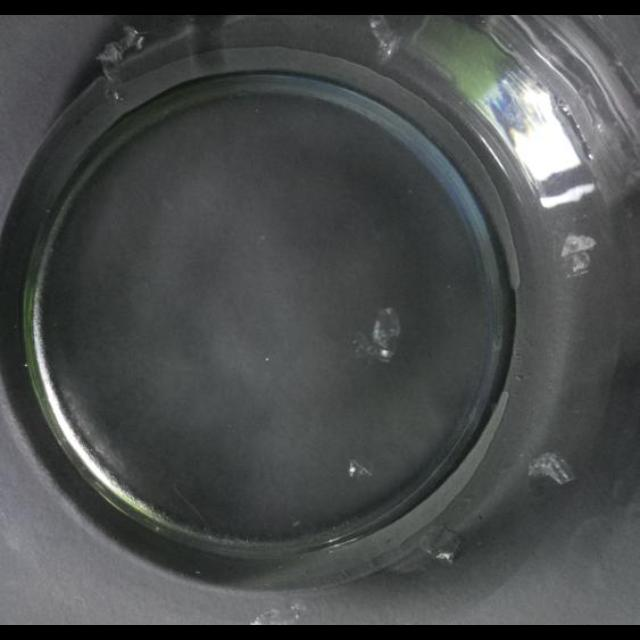Fibre: (96, 25, 146, 93), (352, 306, 402, 364), (528, 451, 576, 487), (560, 232, 596, 276), (367, 16, 399, 62), (96, 42, 124, 68), (122, 25, 144, 49), (348, 460, 370, 480)
microbeads: (249, 604, 305, 626), (436, 550, 454, 564)
